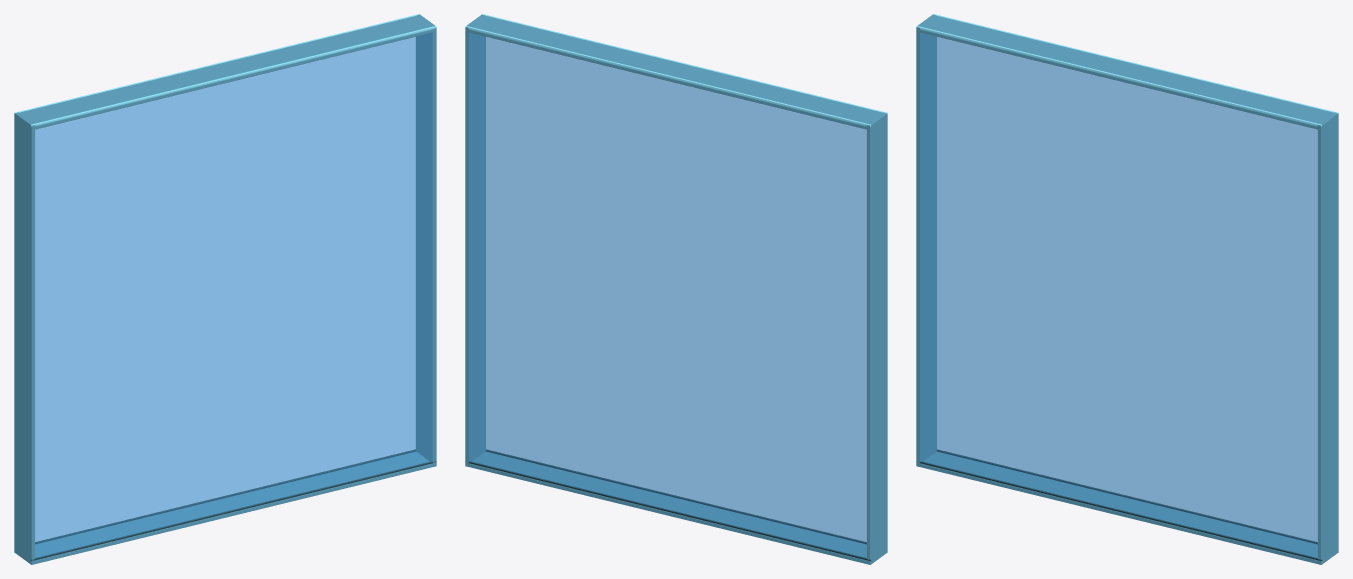
Rendered from SM_VR_Wall_PalletToCorridorB.fbx.
3 renders of one model, left to right at view 1: azimuth 30°, elevation 25°; view 2: azimuth 150°, elevation 25°; view 3: azimuth 330°, elevation 25°, orthographic.
Parts seen in each view (by area): view 1: SM_VR_Wall_PalletToCorridorB; view 2: SM_VR_Wall_PalletToCorridorB; view 3: SM_VR_Wall_PalletToCorridorB.
Boxes of the visible parts, x1=… form: SM_VR_Wall_PalletToCorridorB: x1=14, y1=14, x2=436, y2=564; SM_VR_Wall_PalletToCorridorB: x1=465, y1=14, x2=887, y2=564; SM_VR_Wall_PalletToCorridorB: x1=916, y1=14, x2=1338, y2=564.
Bounding box in the file's own units: 270 × 20 × 280.
